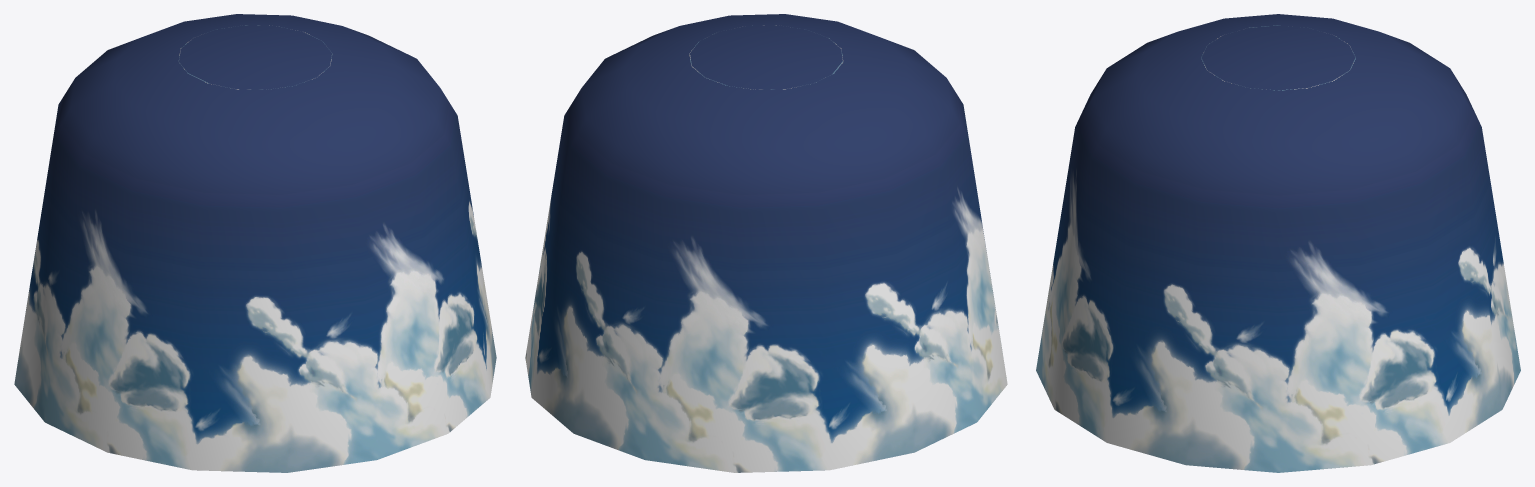
The model's file is skybox_sky.glb.
3 renders of one model, left to right at view 1: azimuth 30°, elevation 25°; view 2: azimuth 150°, elevation 25°; view 3: azimuth 270°, elevation 25°, orthographic.
Visible parts, largest first — view 1: skybox_sky; view 2: skybox_sky; view 3: skybox_sky.
Part boxes in pixels (<box>): skybox_sky: <box>14,14,496,472</box>; skybox_sky: <box>525,14,1007,472</box>; skybox_sky: <box>1036,14,1520,472</box>.
Bounding box in the file's own units: 1.26 × 0.9136 × 1.26.
1 material, 1 textured.
